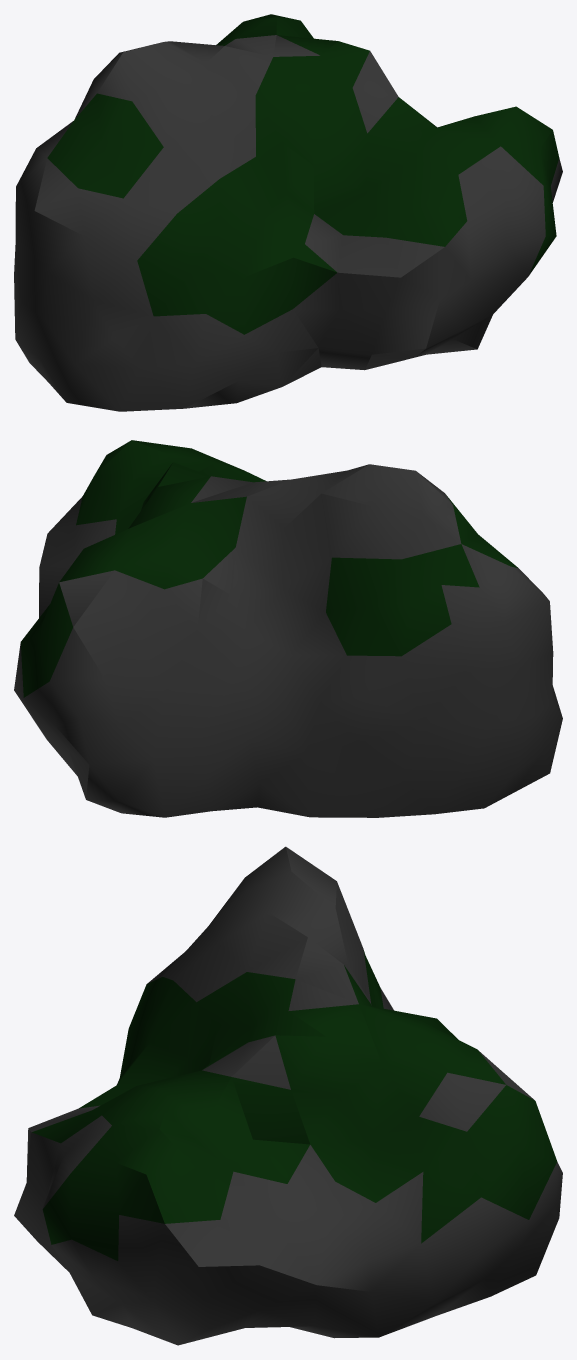
The model's file is Stone_6.fbx.
3 views of the same model, one above another, from view 1: azimuth 30°, elevation 25°; view 2: azimuth 150°, elevation 25°; view 3: azimuth 270°, elevation 25° (orthographic). The views are drawn at different scales.
Parts seen in each view (by area): view 1: Stone; view 2: Stone; view 3: Stone.
Part boxes in pixels (x1,y1,x2,y2): Stone: [14, 14, 562, 411]; Stone: [14, 440, 562, 817]; Stone: [14, 846, 562, 1345].
Size of the model in its own units: 2.11 by 1.2 by 1.8.
